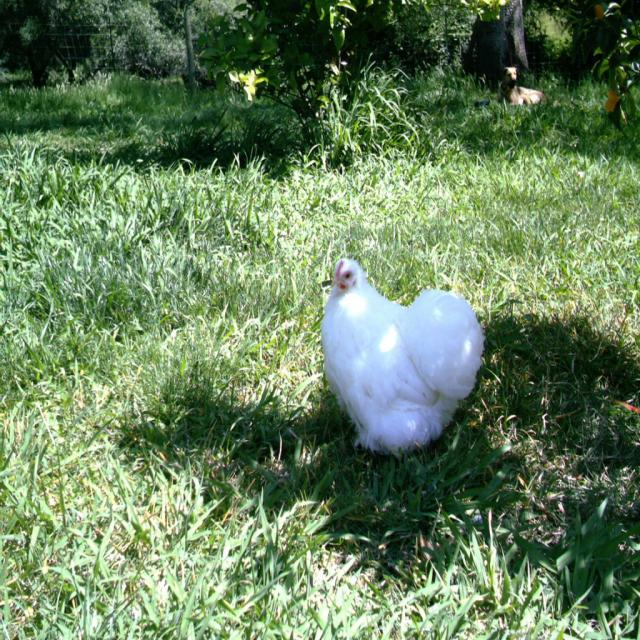Chicken: (312, 255, 488, 467)
